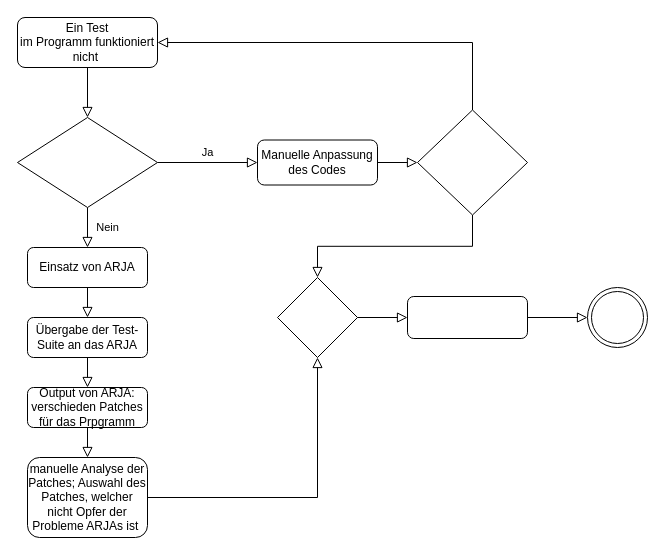
Image size: 665x555. Some labels were removed from this diagram. The centre of each missing label's shape, as x and y in pixels:
Bug gefixt: (467,317)
Bug manuell fixen?: (87,162)
Programm absolviert den Test: (472,162)
